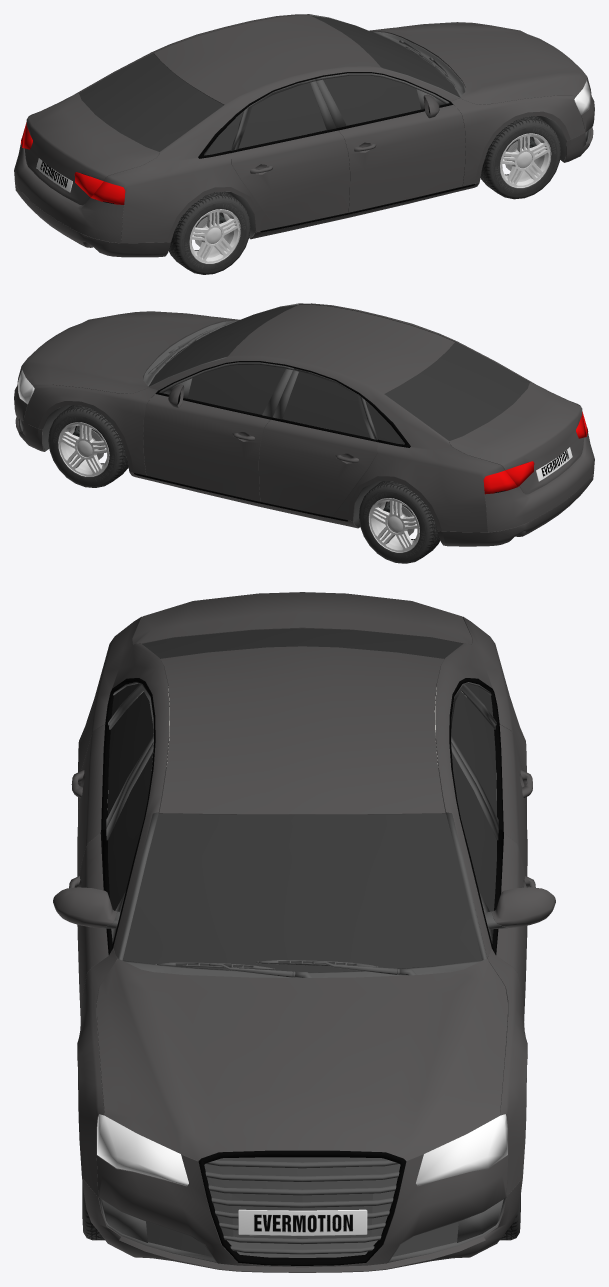
The model's file is car.gltf.
3 renders of one model, top to bottom at view 1: azimuth 30°, elevation 25°; view 2: azimuth 150°, elevation 25°; view 3: azimuth 270°, elevation 25°, orthographic. The views are drawn at different scales.
Parts seen in each view (by area): view 1: 轿车23; view 2: 轿车23; view 3: 轿车23.
Boxes of the visible parts, x1,y1,x2,y2 form: 轿车23: (14, 14, 594, 274); 轿车23: (14, 303, 594, 563); 轿车23: (53, 592, 555, 1272).
Bounding box in the file's own units: 5.01 × 1.45 × 2.06.
Materials: 19 (3 with a texture image).
